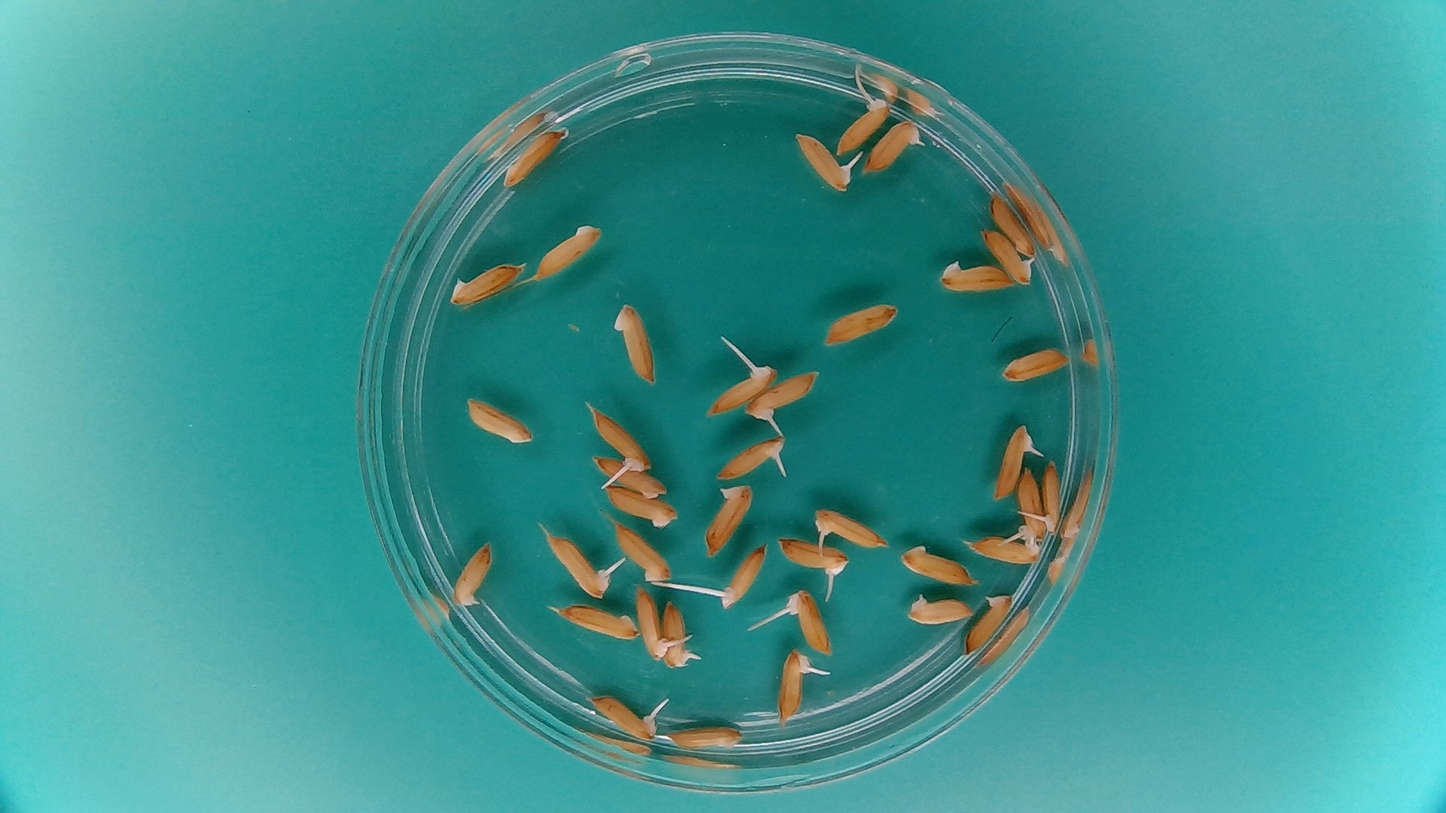no: (505, 123, 570, 194), (609, 298, 661, 385), (531, 224, 605, 282), (702, 479, 755, 559), (612, 522, 677, 586), (446, 257, 527, 308), (820, 300, 902, 348), (463, 394, 535, 446), (898, 541, 978, 587), (548, 603, 640, 642), (587, 457, 673, 498), (601, 486, 679, 531), (450, 540, 496, 613), (964, 590, 1014, 657), (987, 190, 1036, 257), (935, 257, 1014, 296), (962, 531, 1045, 568), (999, 344, 1072, 385), (902, 589, 977, 627), (663, 723, 747, 753)
yes: (548, 534, 615, 598), (587, 408, 651, 470), (795, 131, 853, 192), (708, 362, 772, 416), (990, 424, 1034, 502), (712, 437, 786, 482), (979, 227, 1036, 285), (810, 507, 886, 550), (749, 373, 818, 419), (778, 537, 847, 582), (836, 98, 891, 153), (592, 693, 657, 738), (864, 122, 918, 176), (787, 591, 828, 657), (718, 546, 761, 607), (779, 645, 811, 723), (634, 583, 671, 650), (1016, 464, 1046, 541), (660, 596, 692, 662), (1040, 458, 1065, 538)
